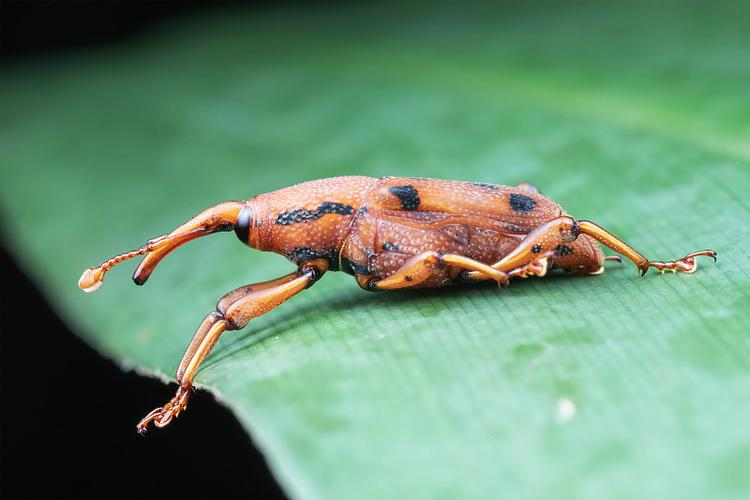Curculionidae: (77, 174, 716, 438)
